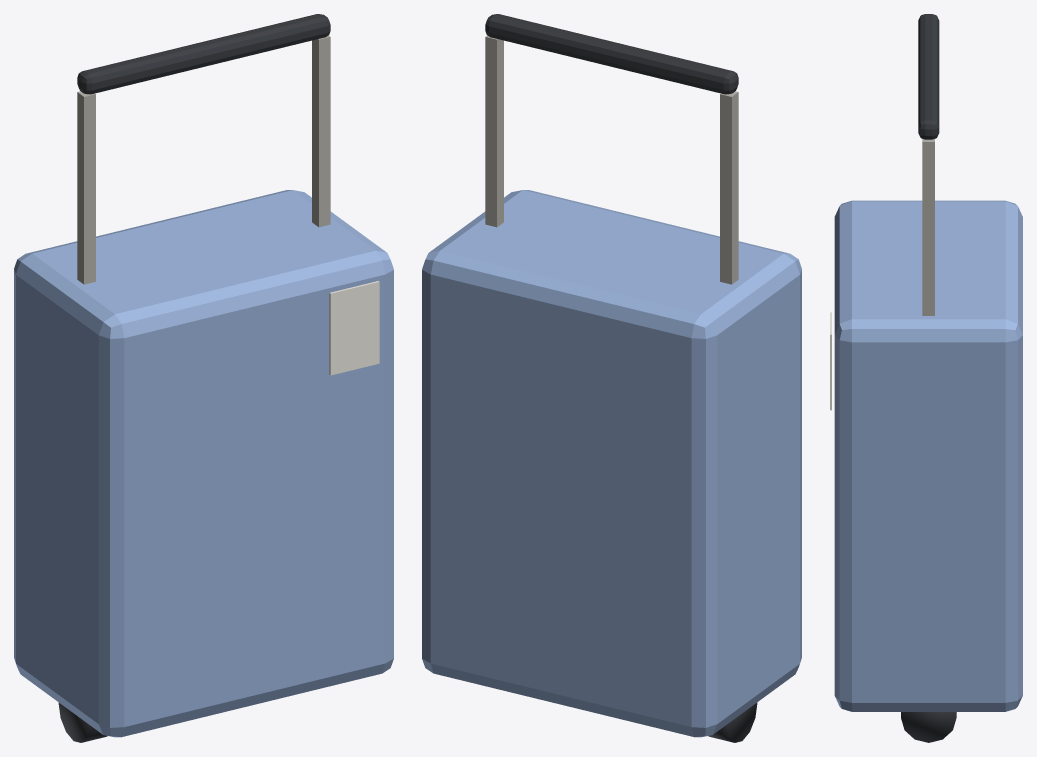
Rendered from Suitcase_blockout.glb.
The picture shows the model from 3 angles, left to right: view 1: azimuth 30°, elevation 25°; view 2: azimuth 150°, elevation 25°; view 3: azimuth 270°, elevation 25°; orthographic projection. The views are drawn at different scales.
Parts seen in each view (by area): view 1: PRP01_Suitcase_Case_L0, PRP01_Suitcase_HandleGrip_L0, PRP01_Suitcase_Tag_L0, PRP01_Suitcase_HandleRailL_L0, PRP01_Suitcase_HandleRailR_L0, PRP01_Suitcase_WheelL_L0; view 2: PRP01_Suitcase_Case_L0, PRP01_Suitcase_HandleGrip_L0, PRP01_Suitcase_HandleRailL_L0, PRP01_Suitcase_HandleRailR_L0, PRP01_Suitcase_WheelL_L0; view 3: PRP01_Suitcase_Case_L0, PRP01_Suitcase_HandleGrip_L0, PRP01_Suitcase_HandleRailR_L0, PRP01_Suitcase_WheelR_L0.
Part boxes in pixels (x1,y1,x2,y2): PRP01_Suitcase_Case_L0: [14, 190, 393, 737]; PRP01_Suitcase_HandleGrip_L0: [77, 14, 330, 94]; PRP01_Suitcase_Tag_L0: [329, 281, 379, 375]; PRP01_Suitcase_HandleRailL_L0: [77, 91, 95, 284]; PRP01_Suitcase_HandleRailR_L0: [312, 35, 330, 227]; PRP01_Suitcase_WheelL_L0: [58, 702, 107, 742]; PRP01_Suitcase_Case_L0: [422, 190, 801, 737]; PRP01_Suitcase_HandleGrip_L0: [485, 14, 738, 94]; PRP01_Suitcase_HandleRailL_L0: [720, 91, 738, 284]; PRP01_Suitcase_HandleRailR_L0: [485, 35, 503, 227]; PRP01_Suitcase_WheelL_L0: [708, 702, 757, 742]; PRP01_Suitcase_Case_L0: [834, 200, 1022, 711]; PRP01_Suitcase_HandleGrip_L0: [918, 14, 939, 139]; PRP01_Suitcase_HandleRailR_L0: [922, 139, 934, 315]; PRP01_Suitcase_WheelR_L0: [901, 712, 956, 742].
Bounding box in the file's own units: 0.45 × 0.975 × 0.2765.
